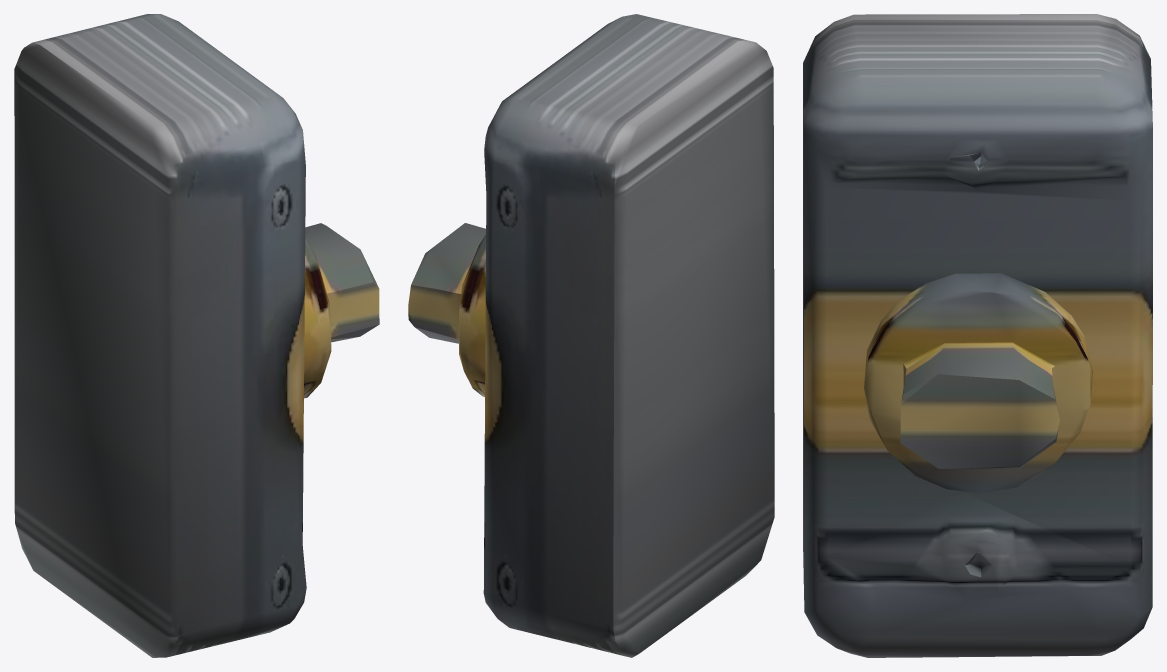
3 renders of one model, left to right at view 1: azimuth 30°, elevation 25°; view 2: azimuth 150°, elevation 25°; view 3: azimuth 270°, elevation 25°, orthographic. The views are drawn at different scales.
Visible parts, largest first — view 1: a_heavy_duty_door_deadbolt_lock_made_of_; view 2: a_heavy_duty_door_deadbolt_lock_made_of_; view 3: a_heavy_duty_door_deadbolt_lock_made_of_.
Boxes of the visible parts, box(x1,y1,x2,y2) form: a_heavy_duty_door_deadbolt_lock_made_of_: box(14, 14, 379, 657); a_heavy_duty_door_deadbolt_lock_made_of_: box(408, 14, 774, 657); a_heavy_duty_door_deadbolt_lock_made_of_: box(803, 14, 1152, 657).
Bounding box in the file's own units: 0.0597 × 0.1196 × 0.0655.
Materials: 1 (1 with a texture image).
